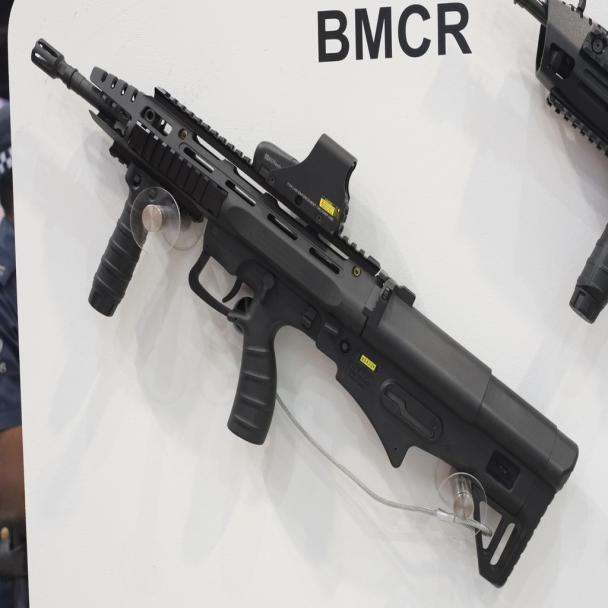Gun: (25, 27, 556, 607)
